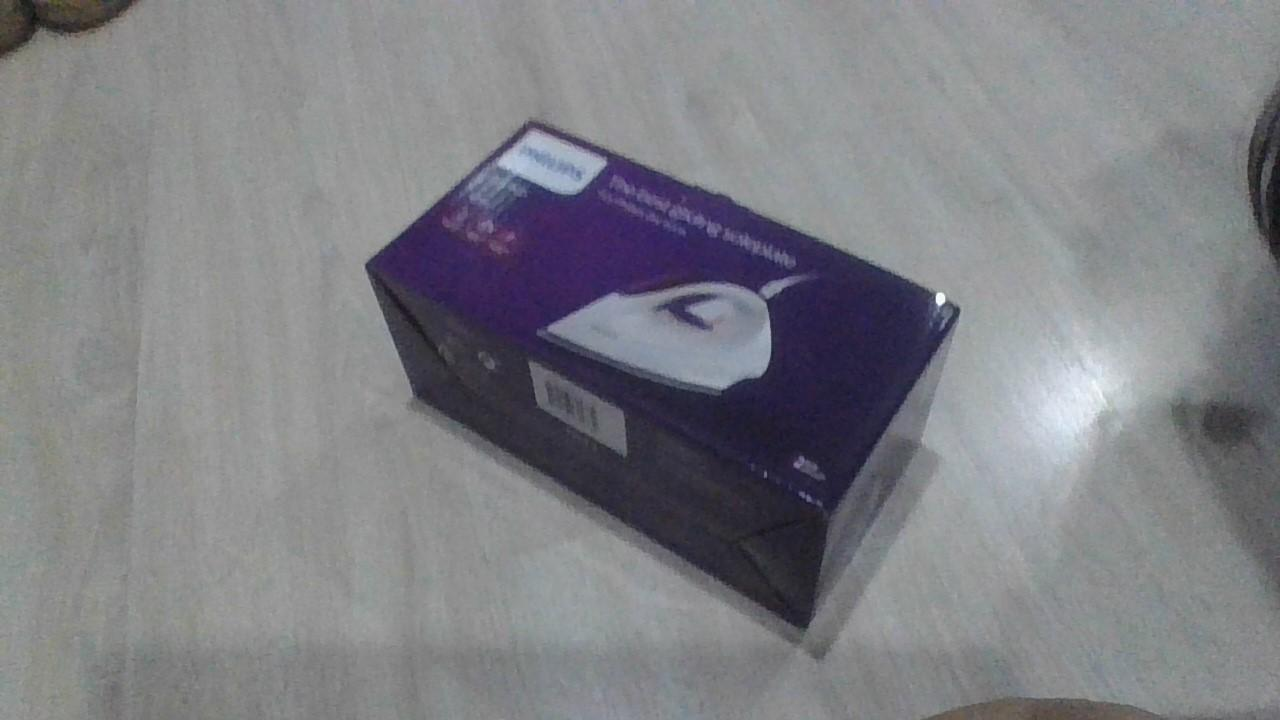IRON: (360, 115, 964, 641)
